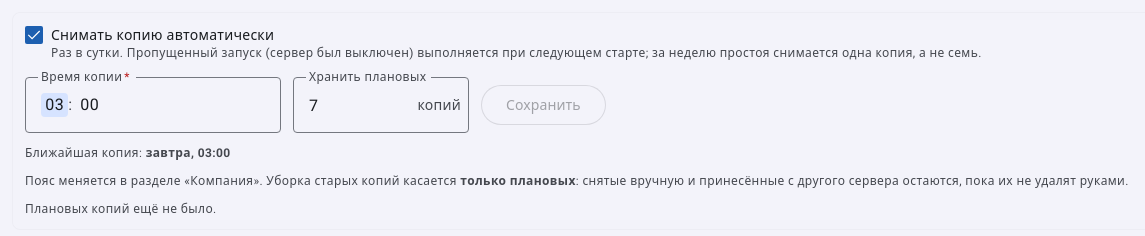
Test case: ScheduleForm › стёртое обязательное время не уходит на сервер — отказ с причиной
This screenshot has width=1145, height=236.
Press a in the field with placeholder "ЧЧ", box [41,93,68,117]
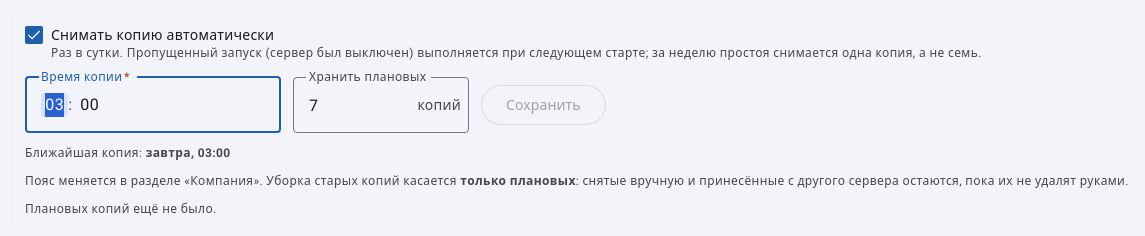
Press Delete in the field with placeholder "ЧЧ", box [41,93,68,117]
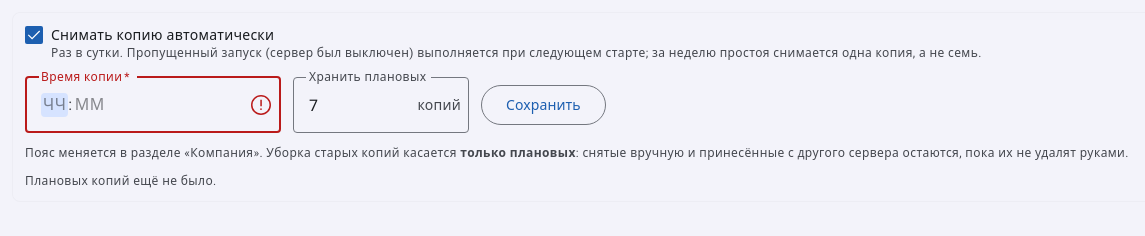
Click the button "Сохранить".
click(543, 105)  # box [481,85,606,125]
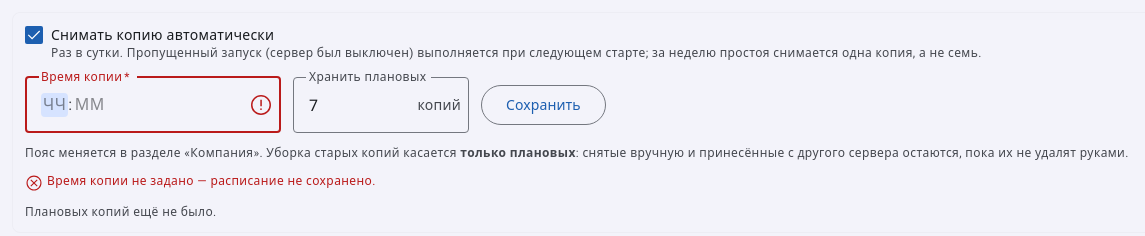
Expected: the text "Время копии не задано — расписание не сохранено." is shown, [47,173,376,189]
